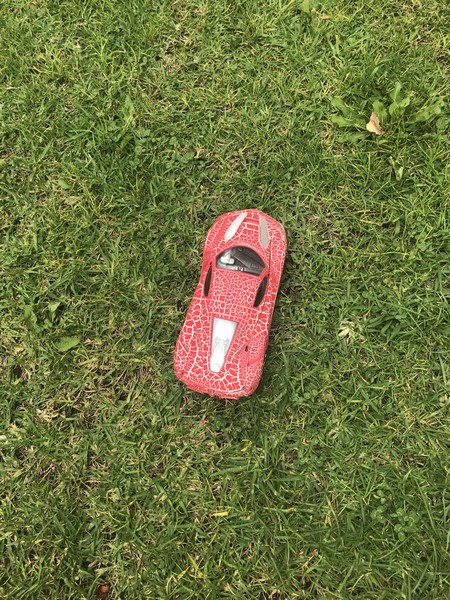RC: (171, 207, 291, 403)
